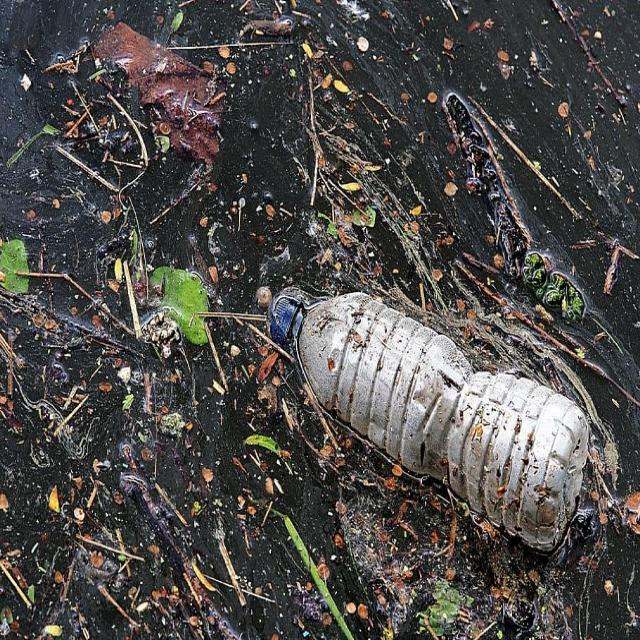bottle: (270, 280, 588, 550)
